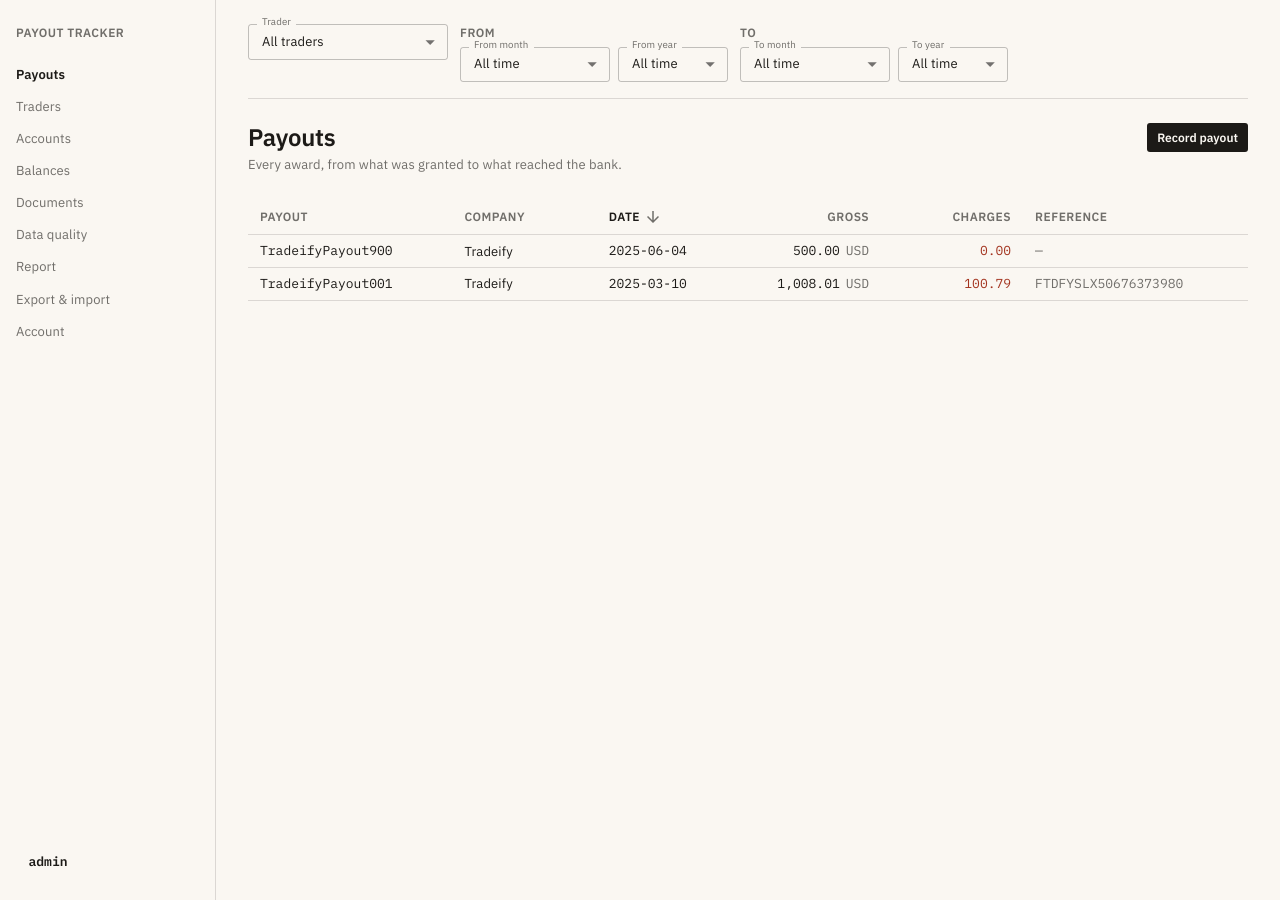
Test case: the scope bar › narrows to a single month, filling the other end in as it goes
This screenshot has width=1280, height=900.
Check: the text "TradeifyPayout001" is shown, box [260,275,393,292]
Click the dropdown named "From year": (655, 64) [632,55,678,72]
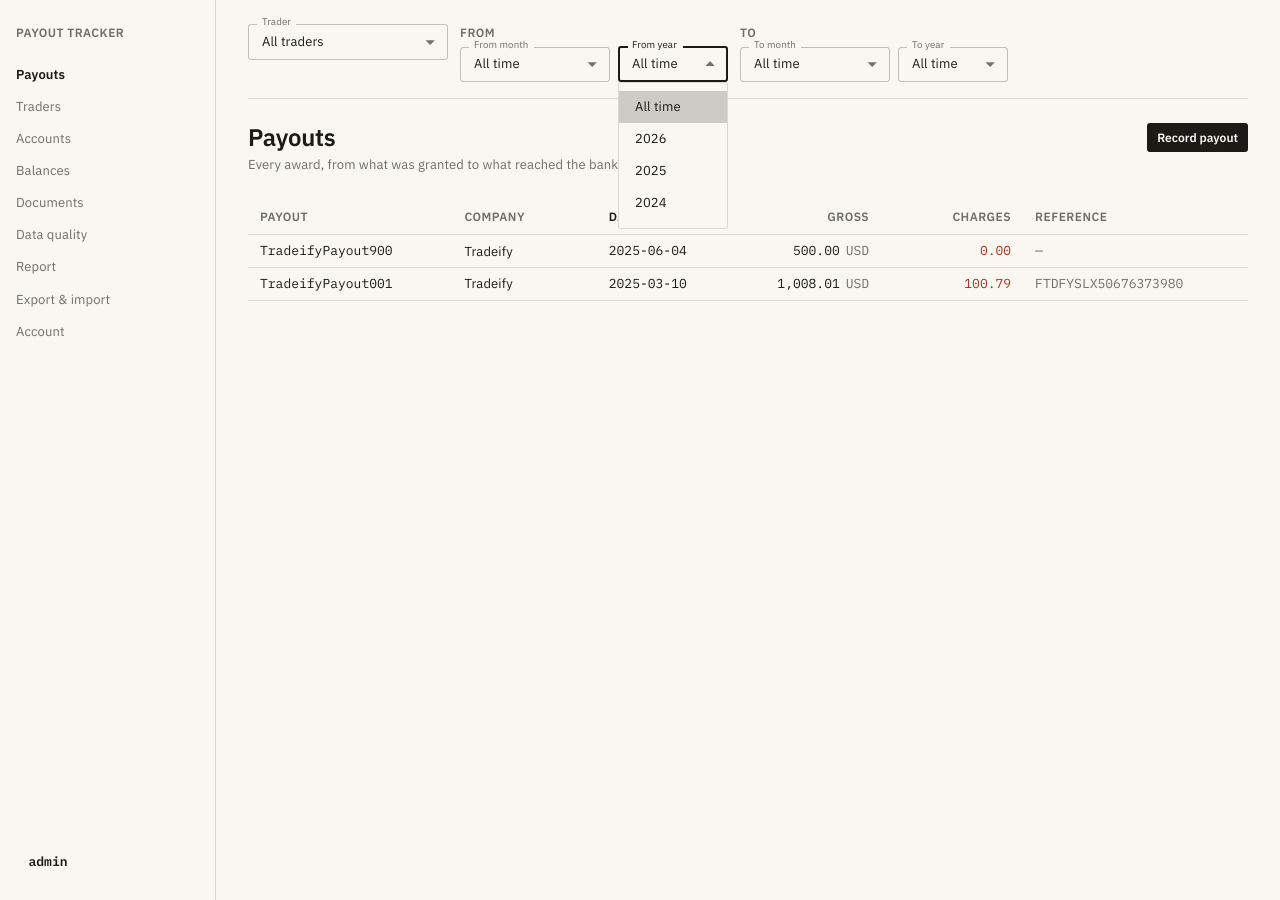
Click the option "2025": (651, 171) [635,162,667,179]
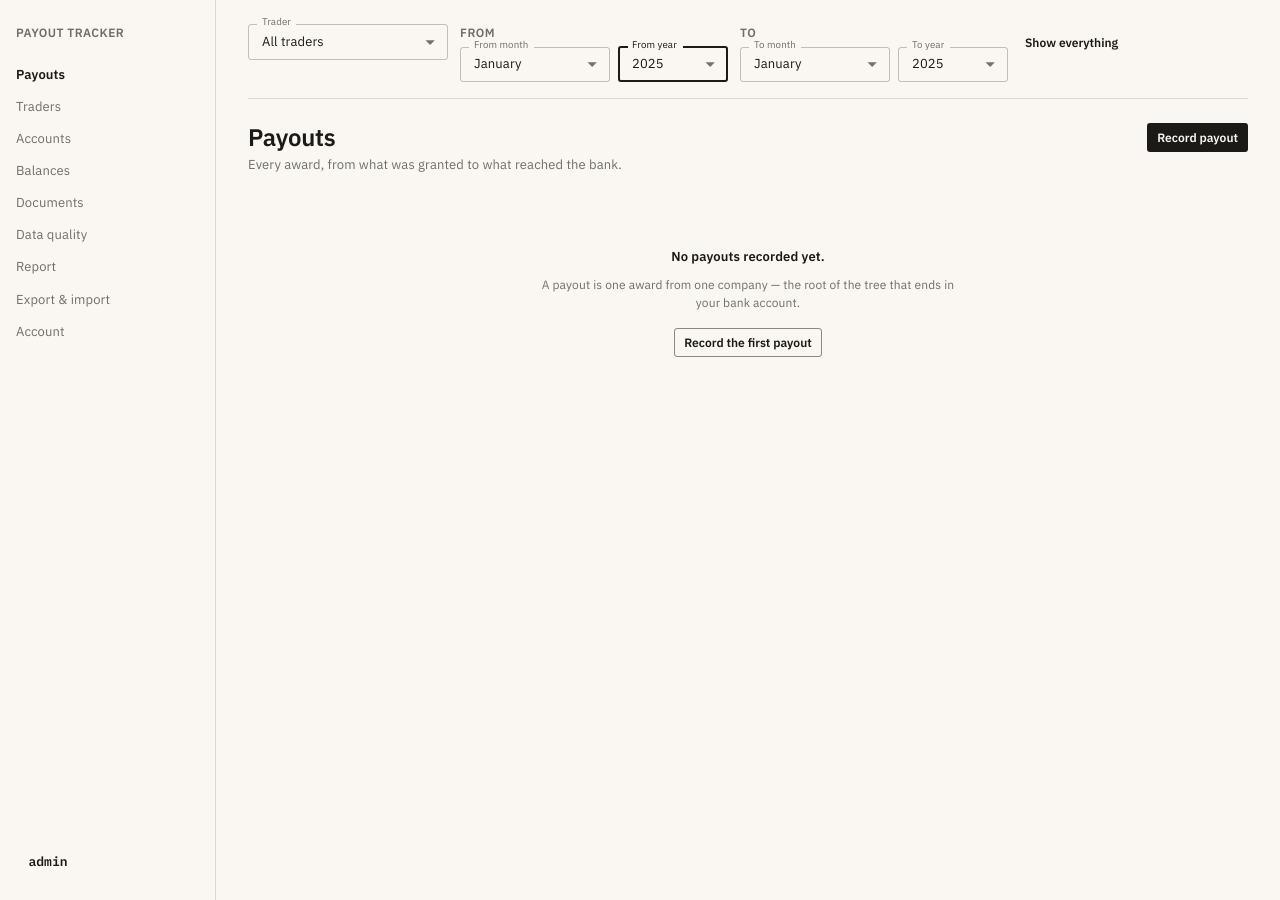
Click the dropdown named "From month": (498, 64) [474,55,522,72]
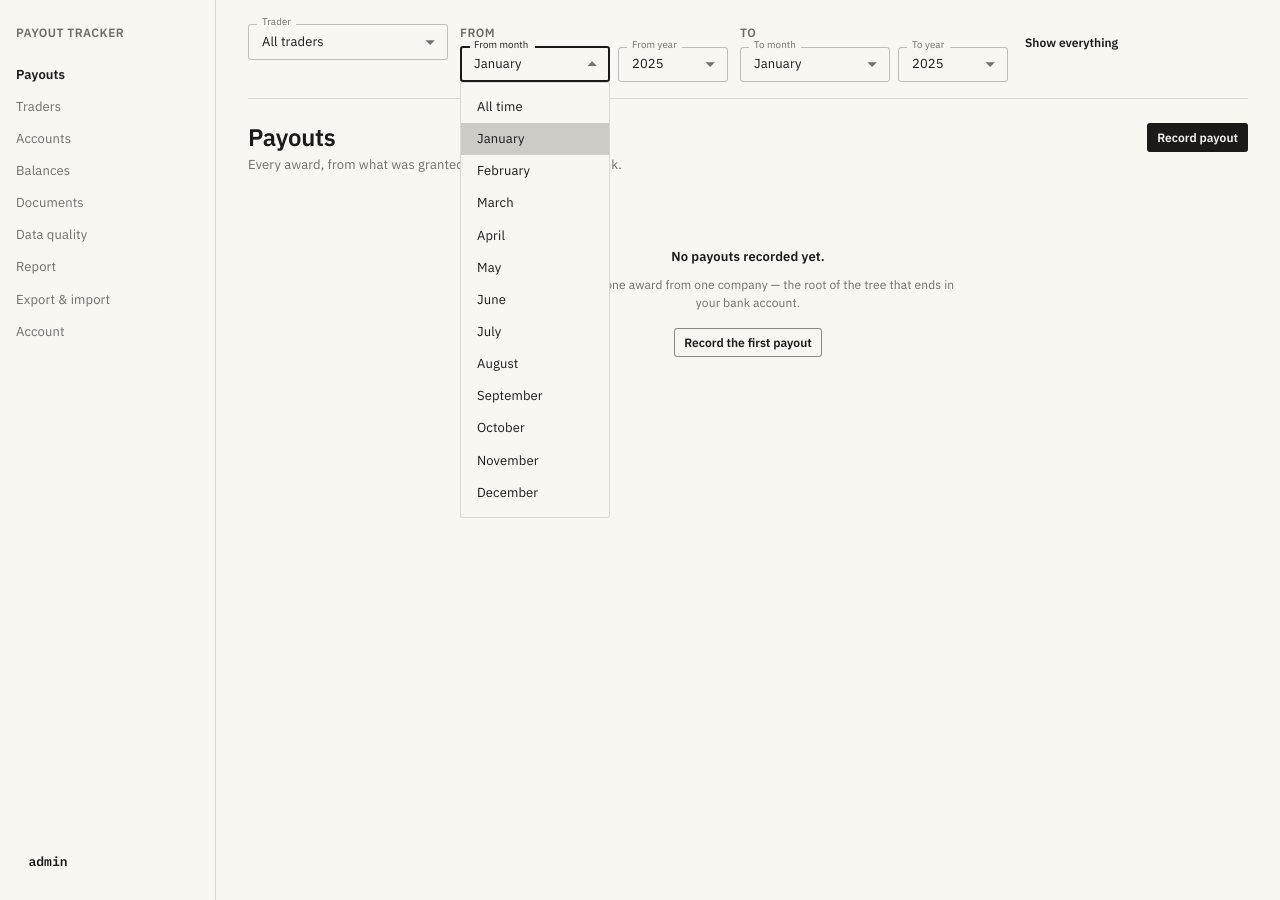
Click the option "June": (492, 299) [477,291,506,308]
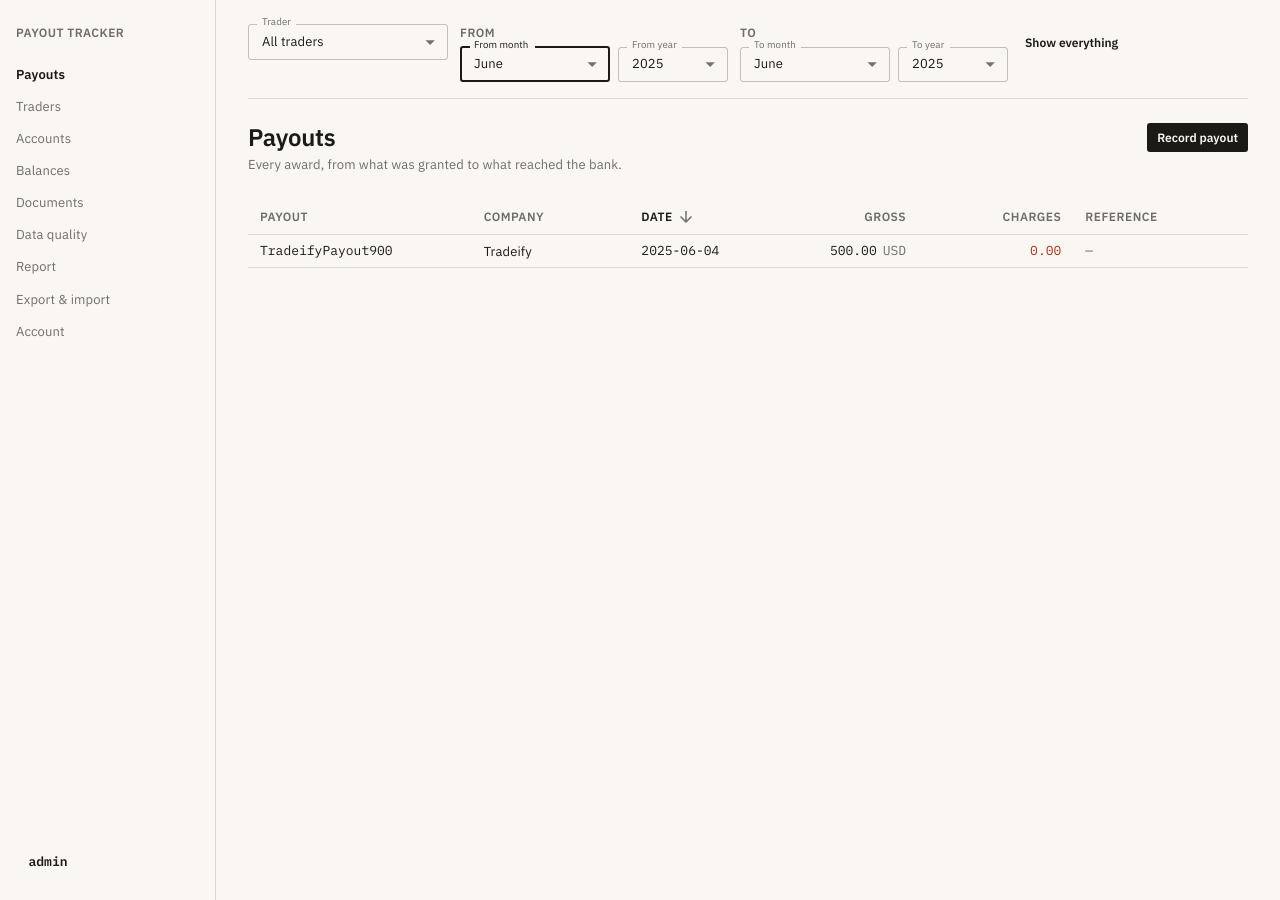
Check: the text "TradeifyPayout001" is not shown
Check: the dropdown named "To month" reads "June", box [754,55,783,72]
Check: the text "TradeifyPayout900" is shown, box [260,242,393,259]
